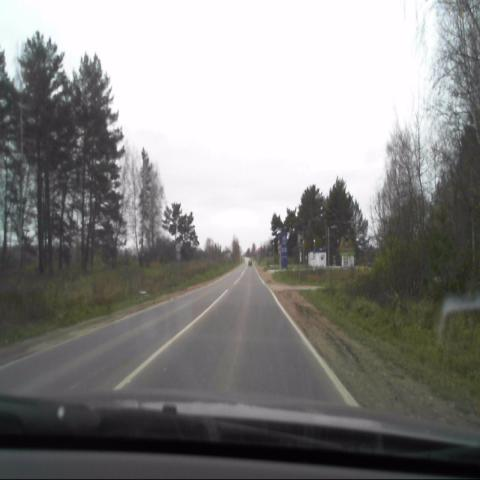7_3: (297, 230, 304, 248)
